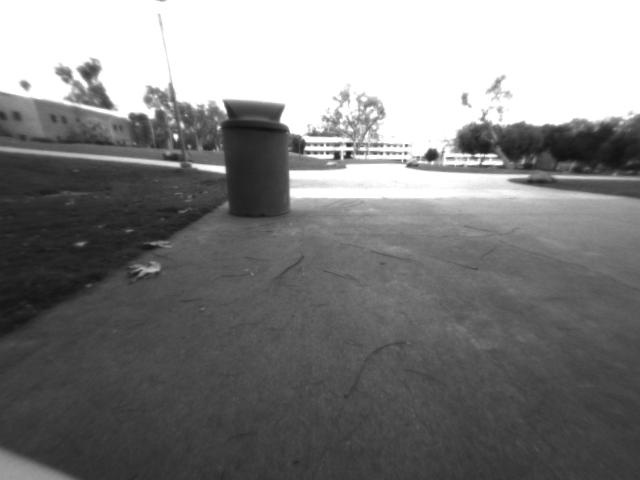trashcan: (219, 98, 298, 220)
